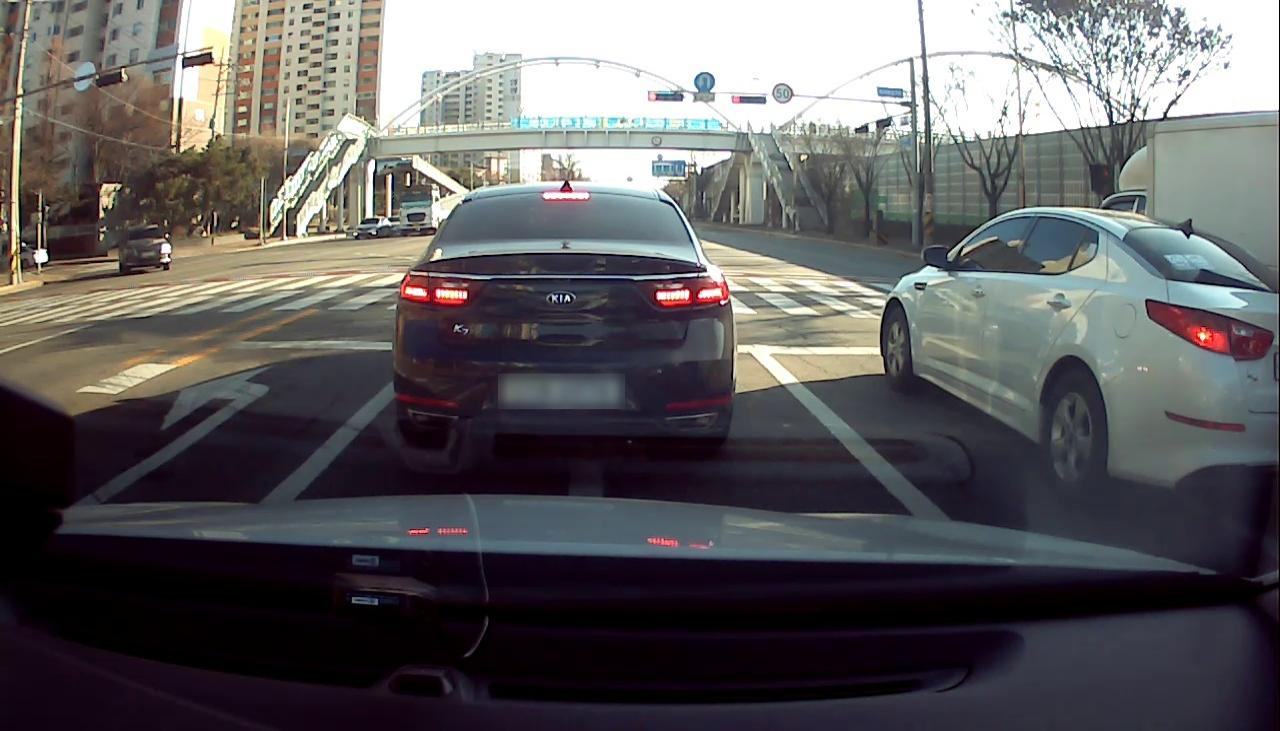Red Light: (646, 90, 658, 102), (731, 94, 741, 104)
